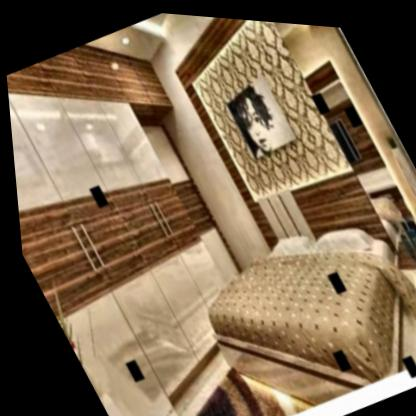Bed: (154, 151, 416, 416)
Closet: (4, 59, 225, 416)
